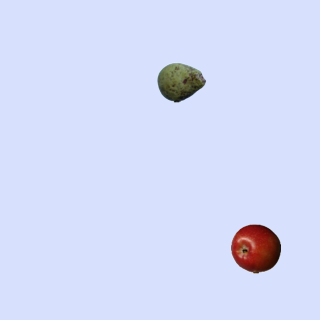Apple Braeburn: (230, 223, 280, 273)
Pear Stone: (156, 57, 206, 107)
